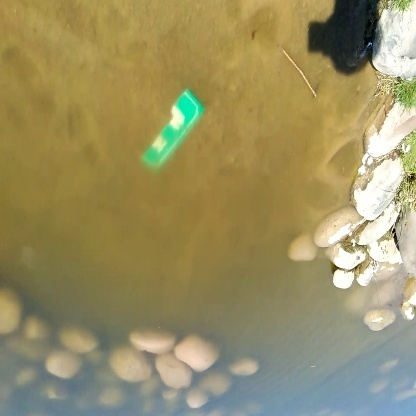plastic-garbage: (136, 87, 205, 175)
